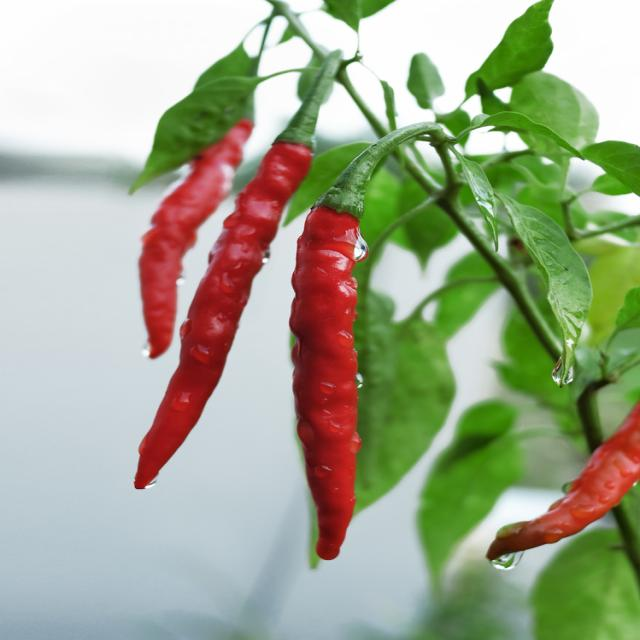Half-Ripe: (487, 404, 639, 559)
Ripe: (135, 141, 312, 488), (139, 119, 254, 358), (290, 206, 364, 559)
